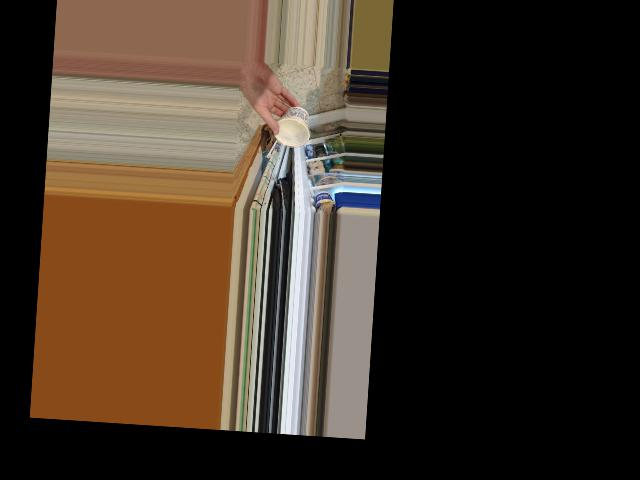cotage: (274, 104, 309, 145)
